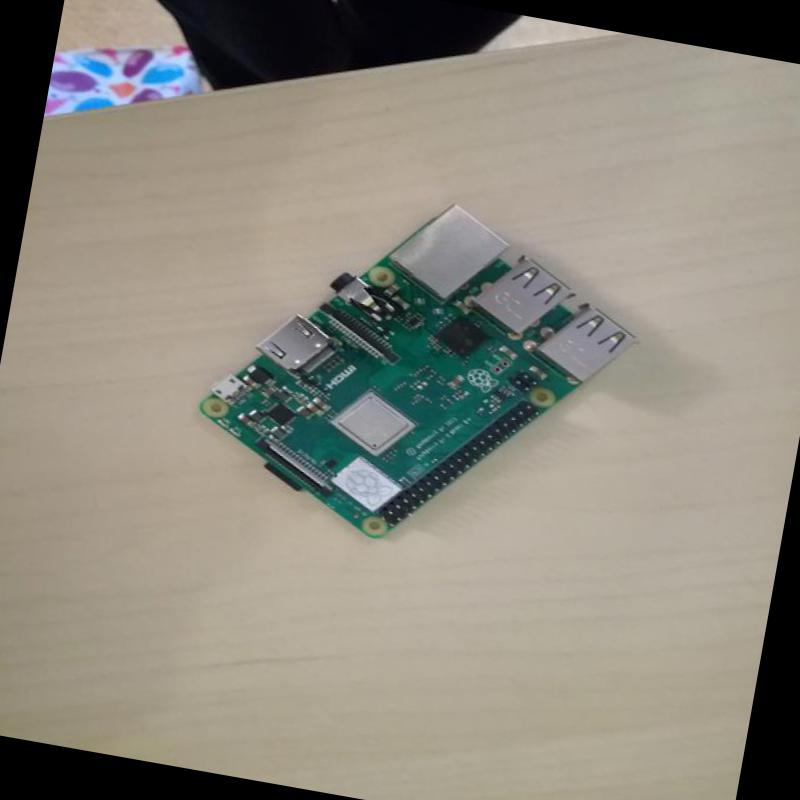Raspberry_Pi_3: (170, 152, 666, 587)
